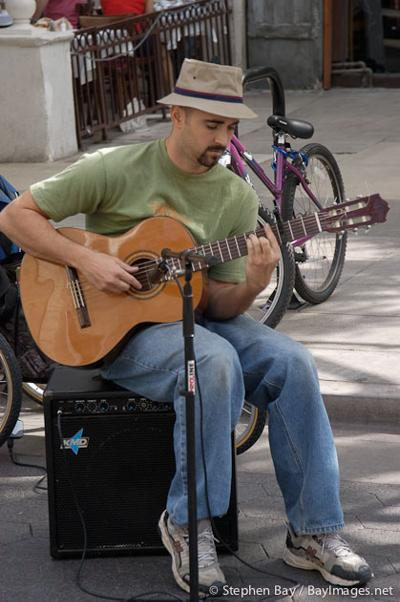person: (3, 56, 375, 600)
